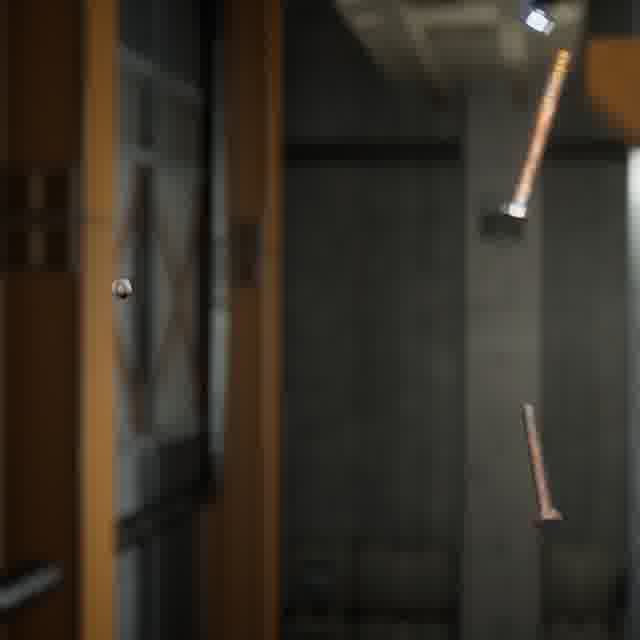bolt: (495, 46, 576, 225), (517, 399, 566, 534), (105, 272, 136, 303)
nut: (513, 0, 559, 38)
